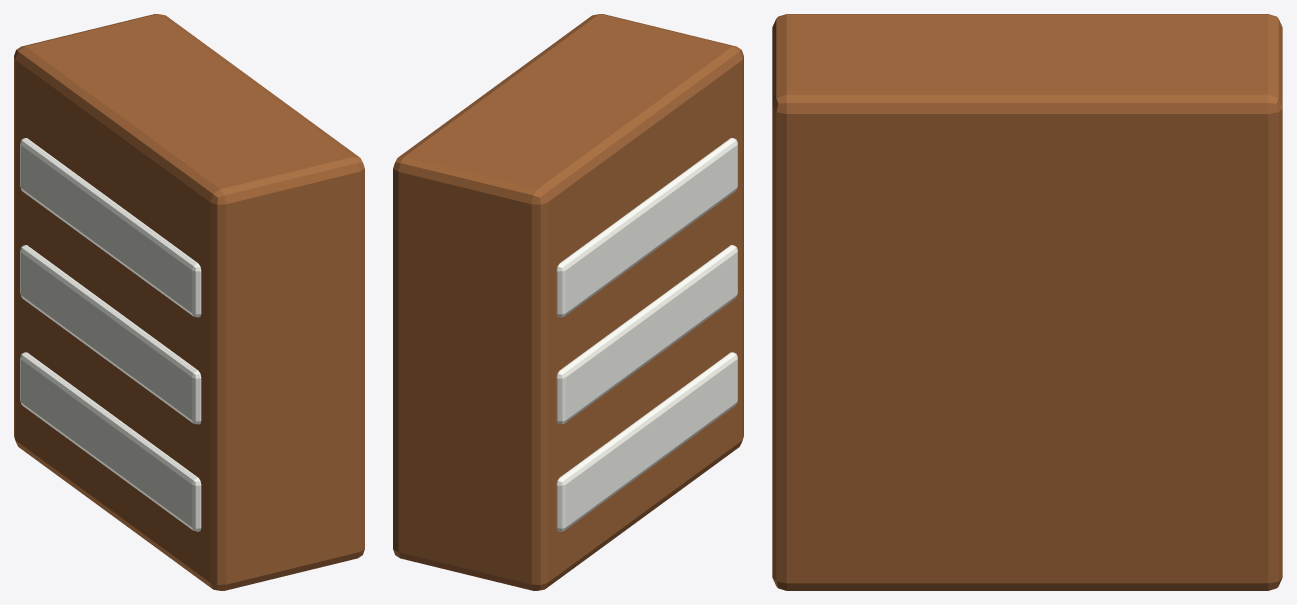
File: int_rakKertas.fbx
3 renders of one model, left to right at view 1: azimuth 30°, elevation 25°; view 2: azimuth 150°, elevation 25°; view 3: azimuth 270°, elevation 25°, orthographic. The views are drawn at different scales.
Visible parts, largest first — view 1: int_rakKertas; view 2: int_rakKertas; view 3: int_rakKertas.
Boxes of the visible parts, x1,y1,x2,y2 form: int_rakKertas: [14, 14, 364, 590]; int_rakKertas: [393, 14, 743, 590]; int_rakKertas: [772, 14, 1282, 590].
Bounding box in the file's own units: 62.5 × 150 × 140.
Materials: 1 (1 with a texture image).
